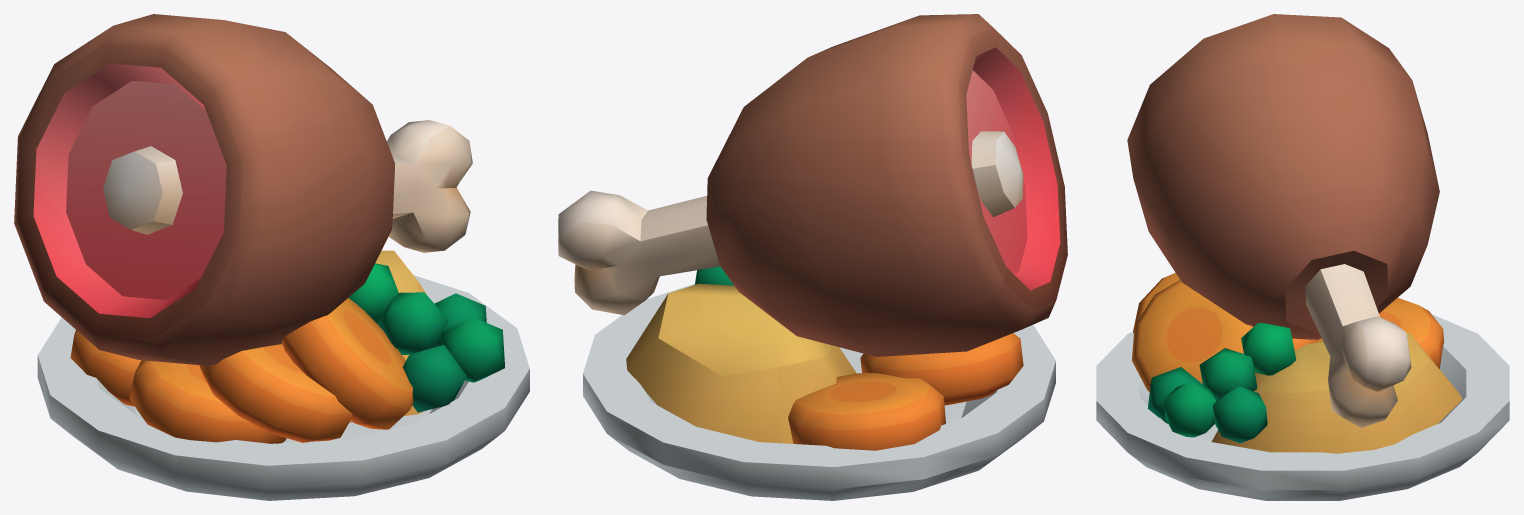
The model's file is dinner-plate.glb.
3 renders of one model, left to right at view 1: azimuth 30°, elevation 25°; view 2: azimuth 150°, elevation 25°; view 3: azimuth 270°, elevation 25°, orthographic. The views are drawn at different scales.
Visible parts, largest first — view 1: food_dinner; view 2: food_dinner; view 3: food_dinner.
Part boxes in pixels (x1,y1,x2,y2): food_dinner: [14, 14, 529, 500]; food_dinner: [558, 14, 1067, 500]; food_dinner: [1096, 14, 1509, 500].
Bounding box in the file's own units: 1.04 × 0.9078 × 0.95.
Materials: 1 (1 with a texture image).
